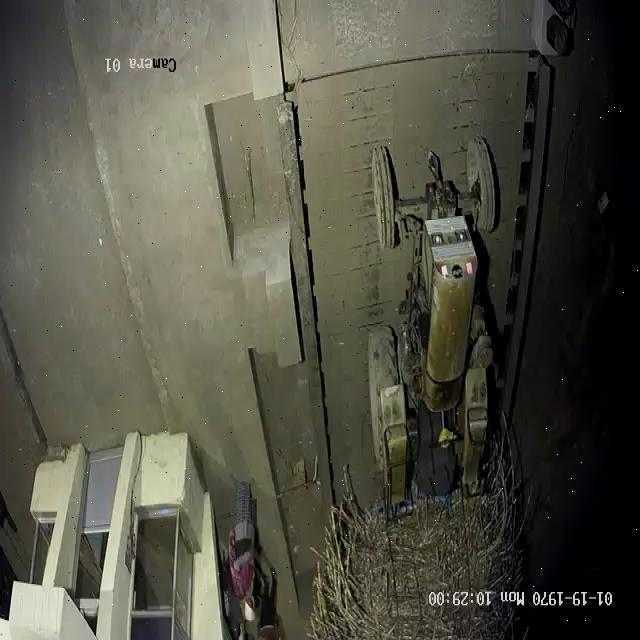Tratores - v5 YOLO V8L 2024-11-13: (368, 137, 494, 488)
